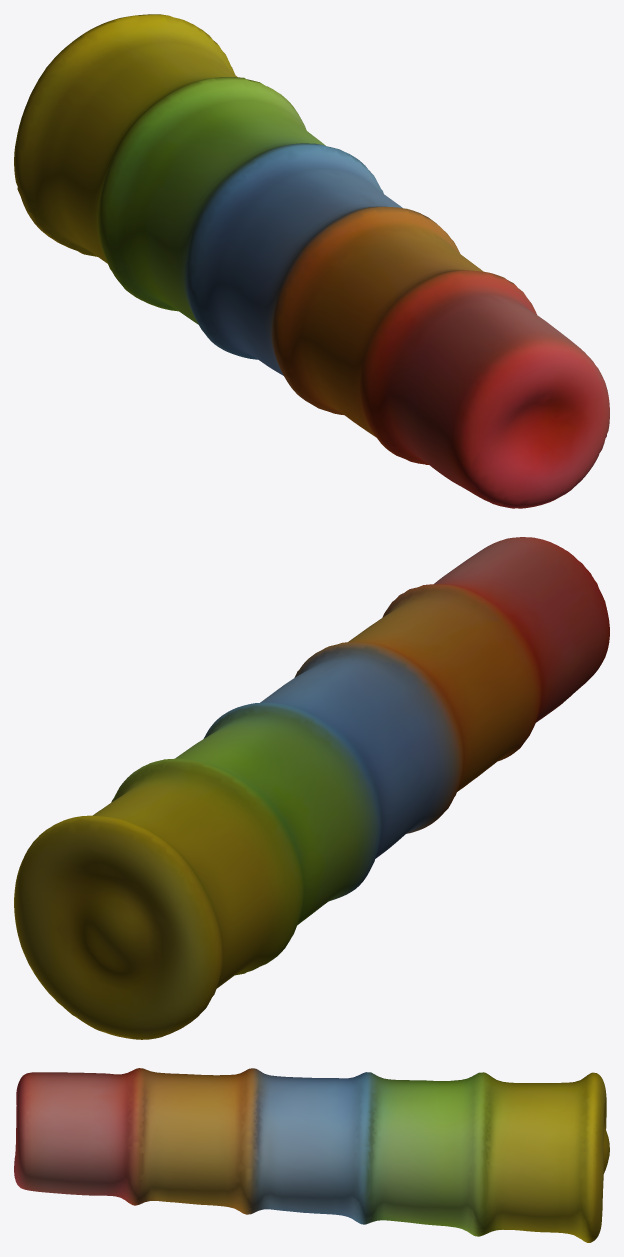
Rendered from stucking_cups.glb.
3 renders of one model, top to bottom at view 1: azimuth 30°, elevation 25°; view 2: azimuth 150°, elevation 25°; view 3: azimuth 270°, elevation 25°, orthographic. The views are drawn at different scales.
Bounding box in the file's own units: 0.2848 × 0.2856 × 0.9997.
